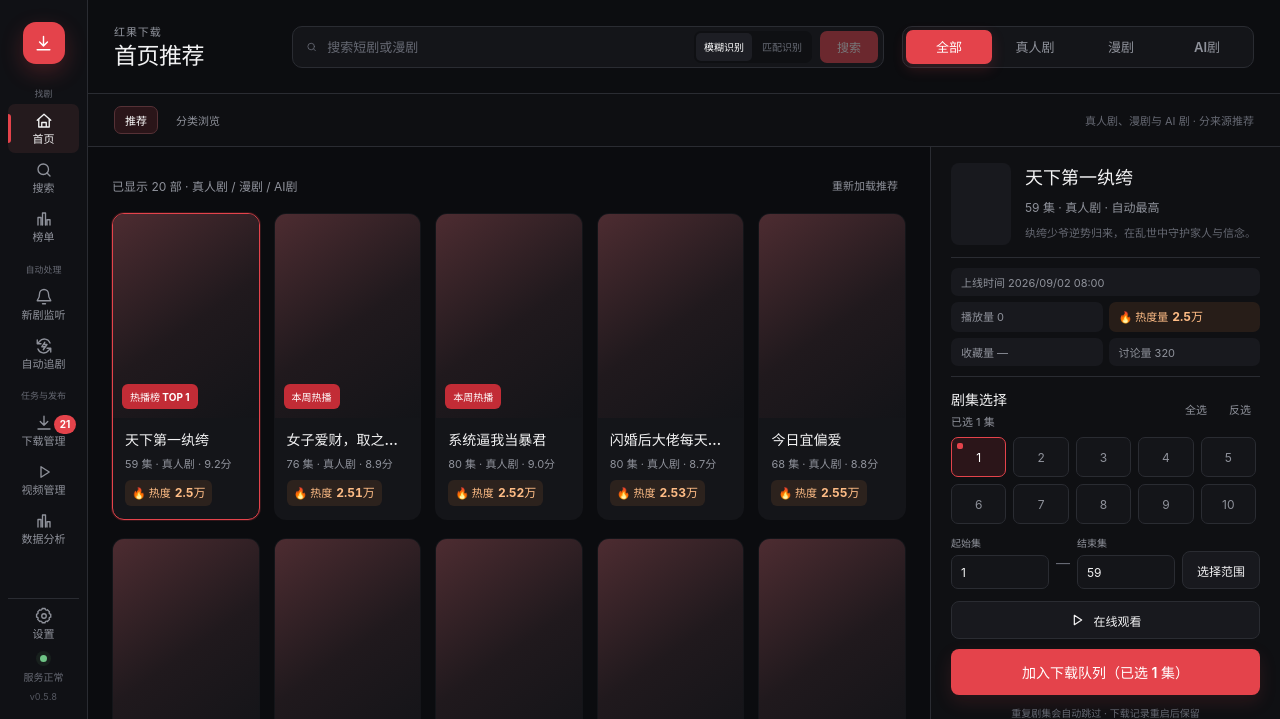
Test: App preview workflow › opens monitor details in place and retains the list and scroll after closing
Click the button "新剧监听". click: (44, 304)
box: [8,279,79,328]
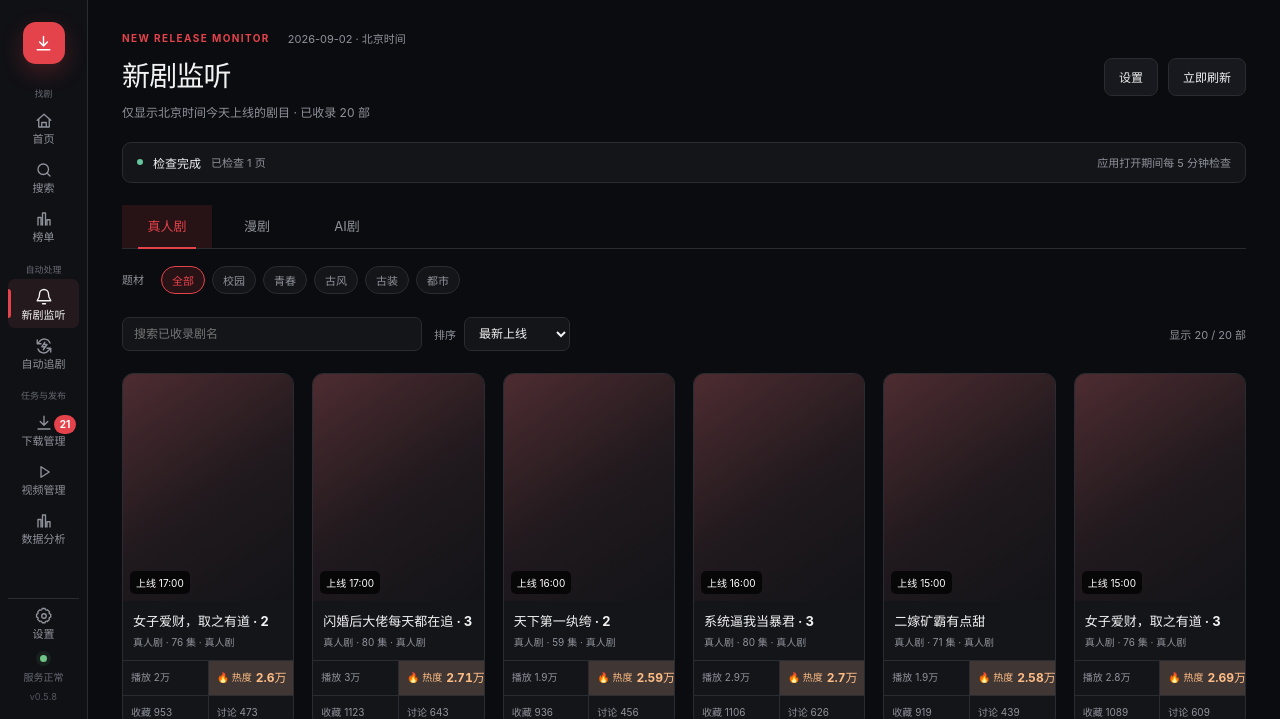
Click the button "AI剧". click: (347, 226)
box: [302,205,392,248]
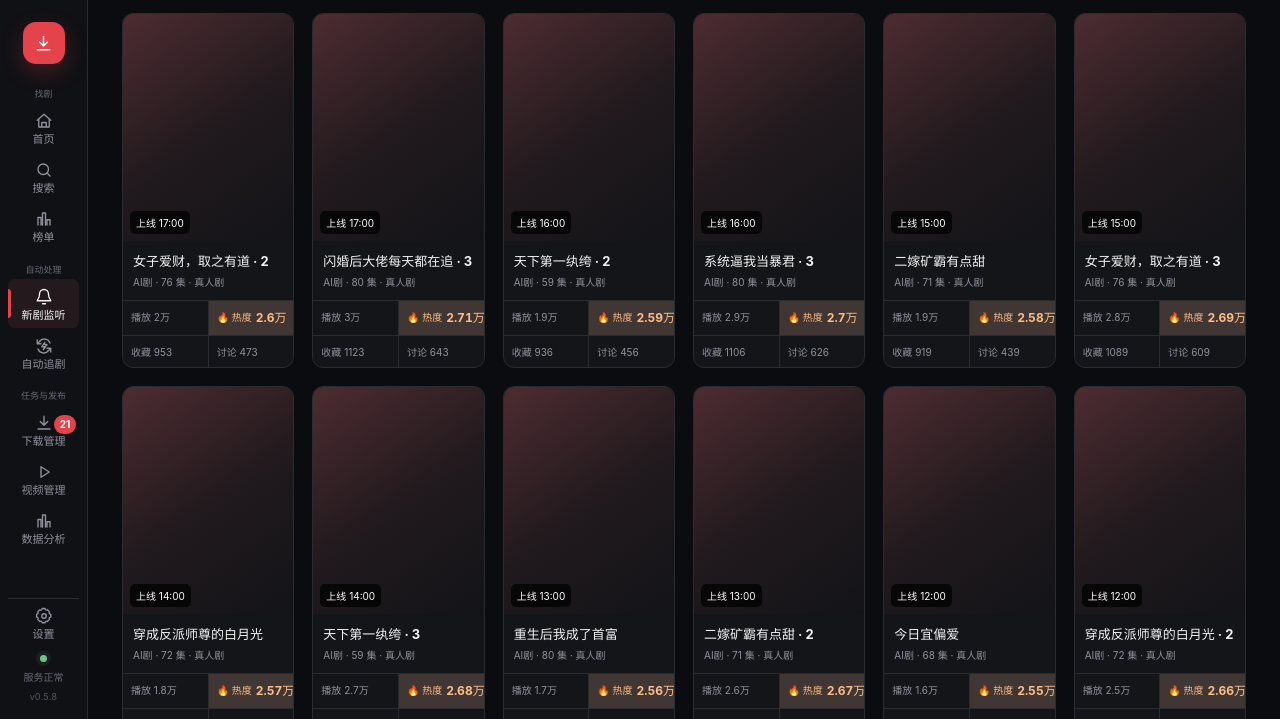
Click the 2nd button with class "monitor-card". click: (398, 190)
box: [312,13,485,368]
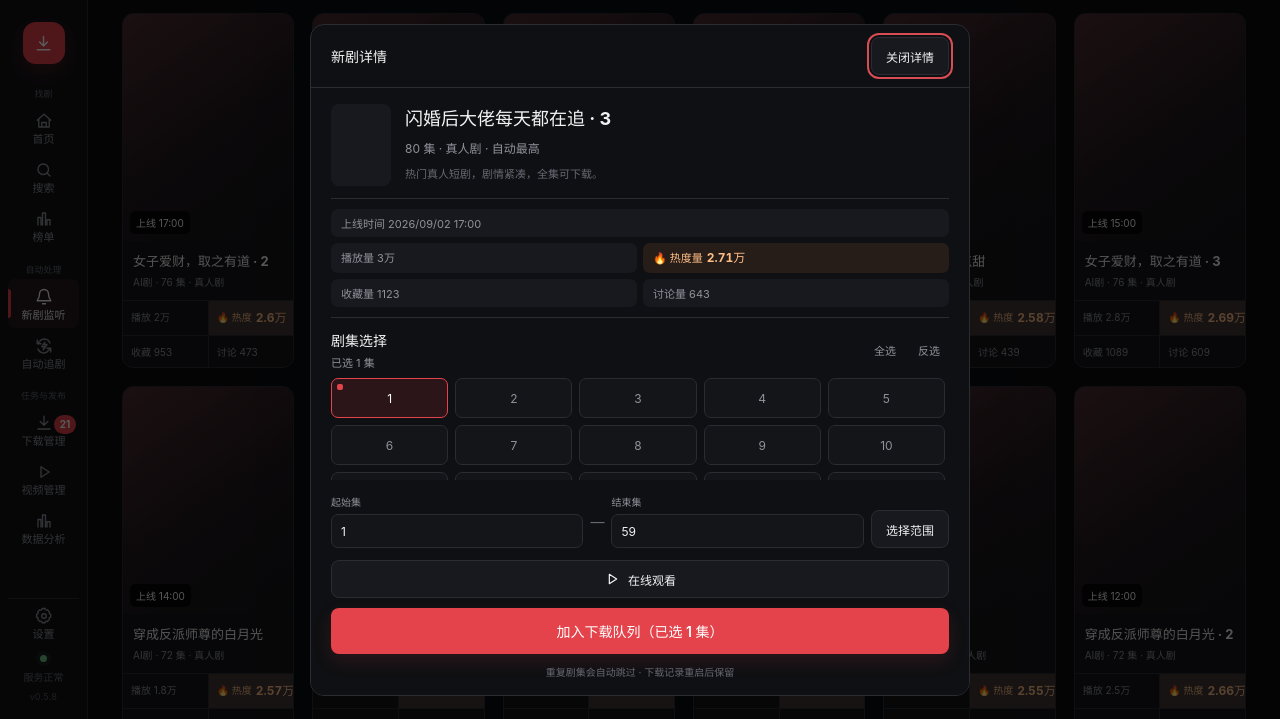
Check: the heading "首页推荐" is not shown
Click the button "加入下载队列（已选 1 集）". click: (640, 631)
box: [331,608,949,654]
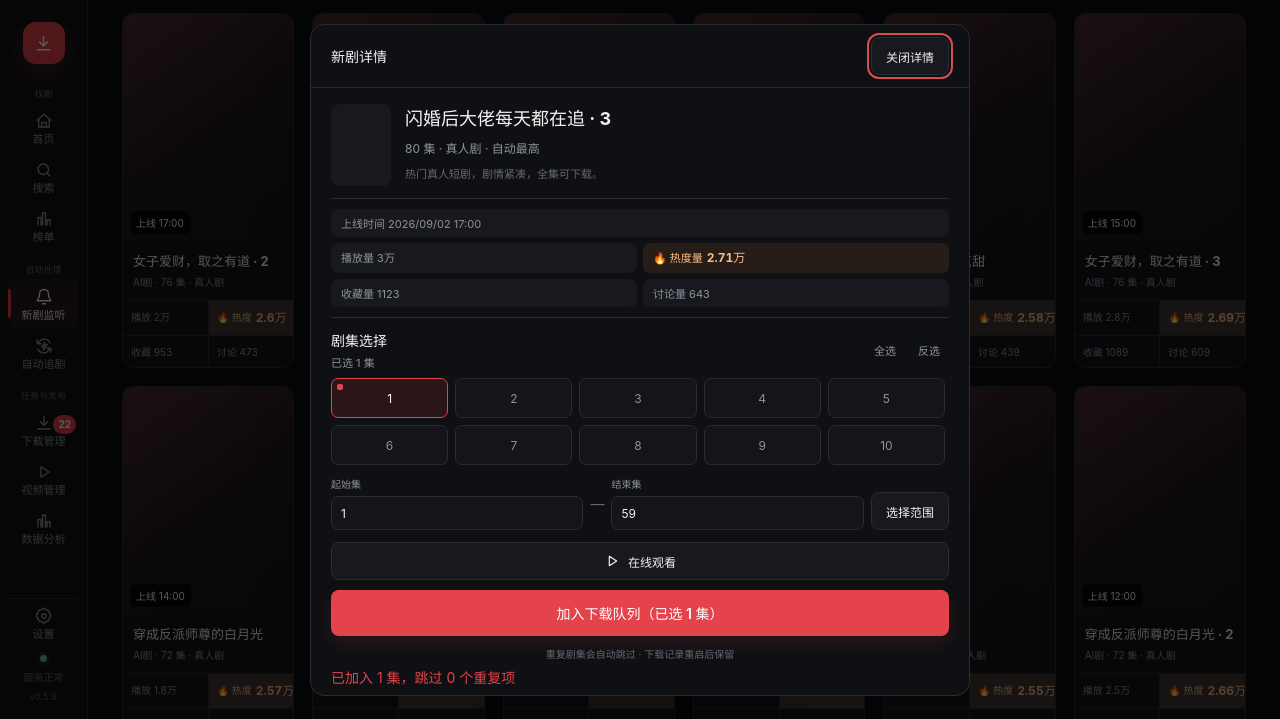
Check: the text "已加入 1 集，跳过 0 个重复项" below "19" is shown, box [331,669,515,686]
Click the button "关闭详情". click: (910, 56)
box: [871,37,949,75]
(page scrolled)
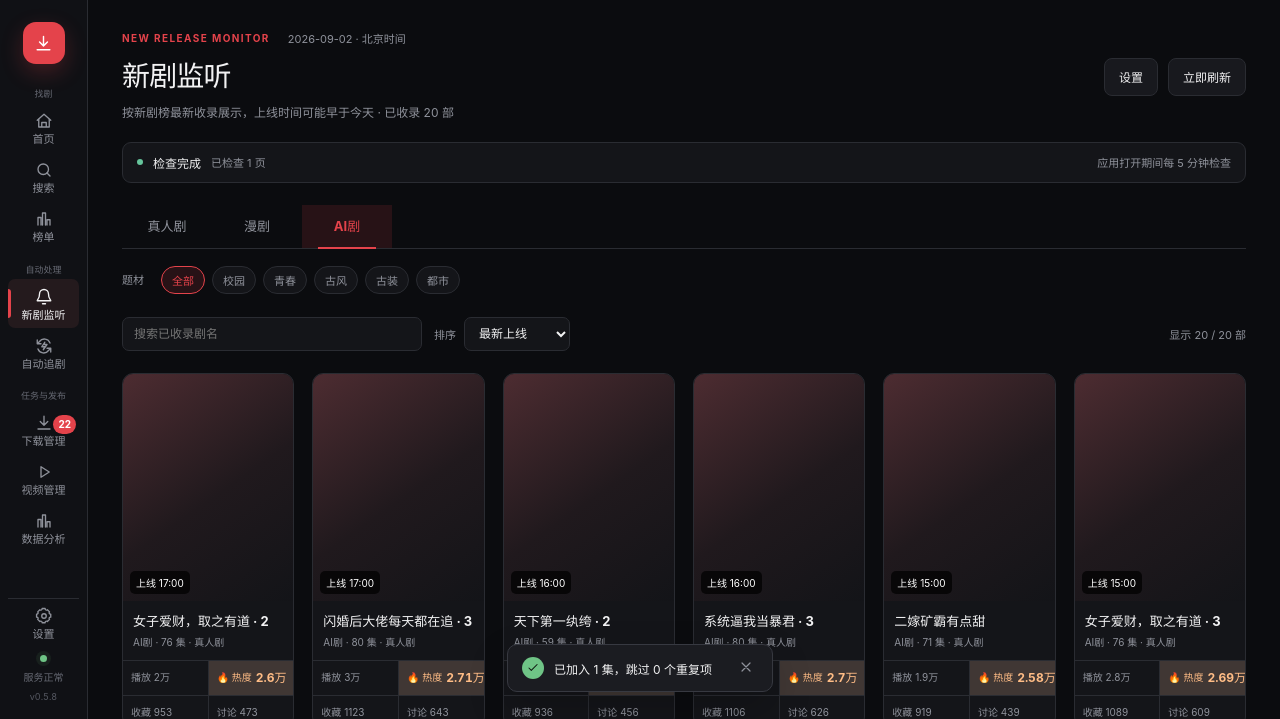
Check: the dialog is gone
